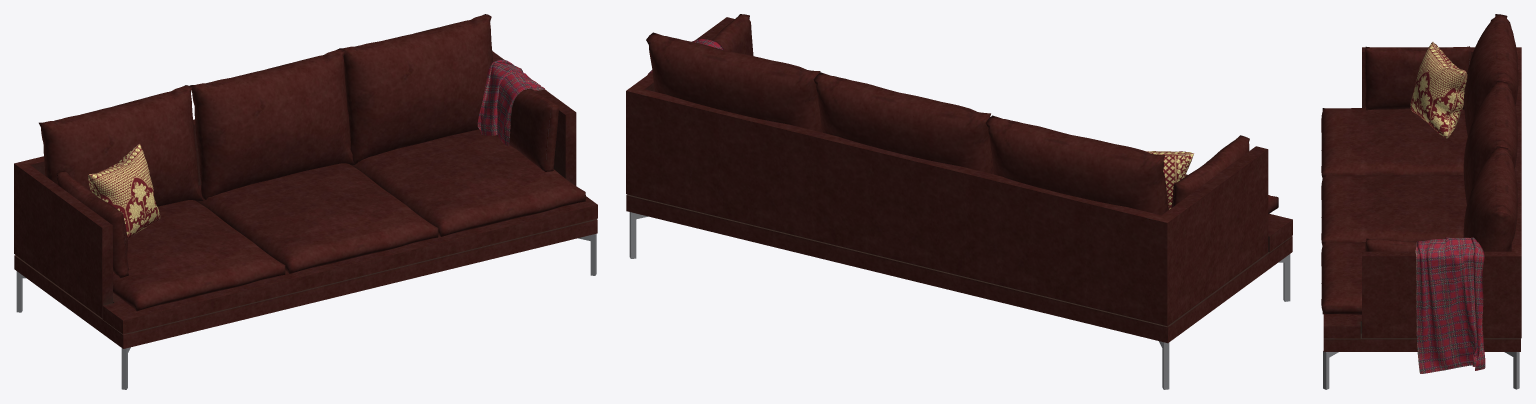
The model's file is couch (1).glb.
3 renders of one model, left to right at view 1: azimuth 30°, elevation 25°; view 2: azimuth 150°, elevation 25°; view 3: azimuth 270°, elevation 25°, orthographic. The views are drawn at different scales.
Parts seen in each view (by area): view 1: couch; view 2: couch; view 3: couch.
Part boxes in pixels (box(x1,y1,x2,y2)): couch: box(14, 14, 597, 389); couch: box(626, 14, 1292, 389); couch: box(1321, 14, 1521, 389).
Bounding box in the file's own units: 307 × 115 × 120.
Materials: 2 (2 with a texture image).
